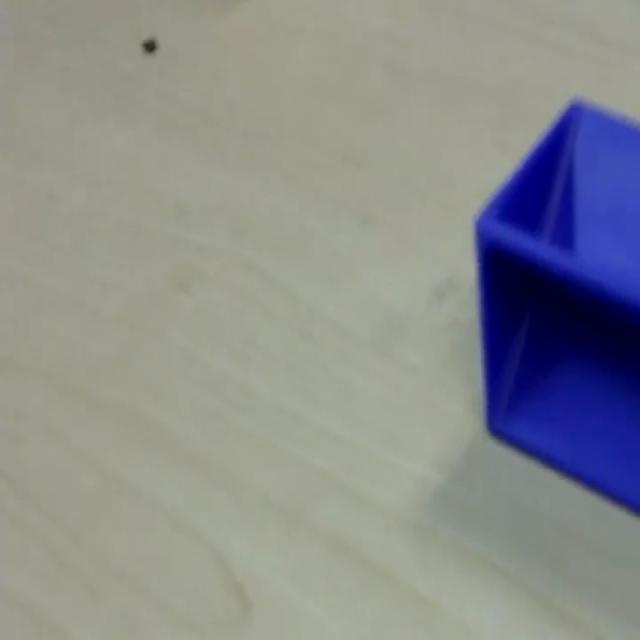blue_block: (472, 93, 638, 515)
